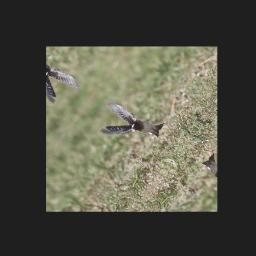Swallow: (90, 93, 167, 157)
